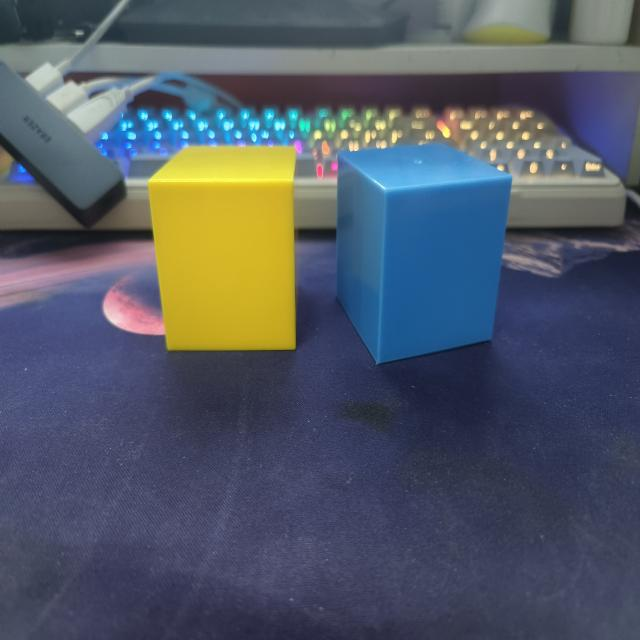blue: (335, 143, 513, 368)
yellow: (146, 146, 298, 354)
